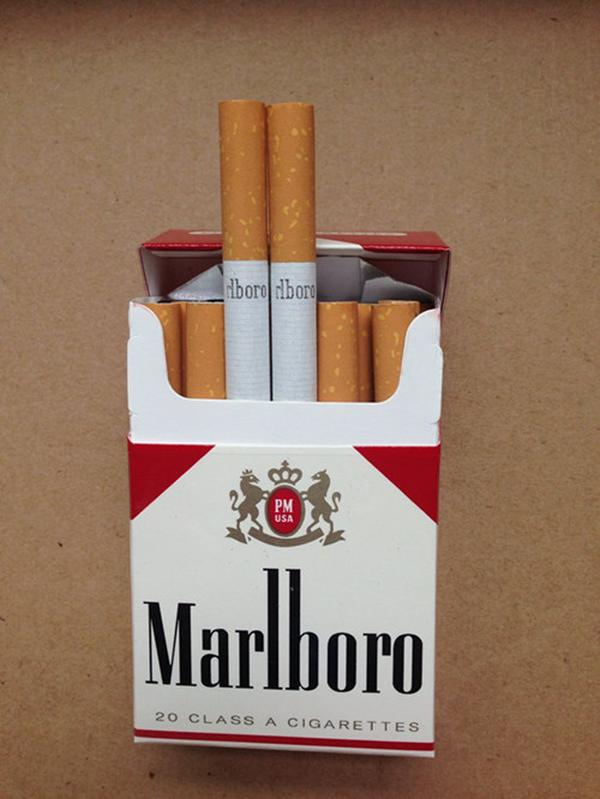marlboro_red: (129, 311, 437, 738)
